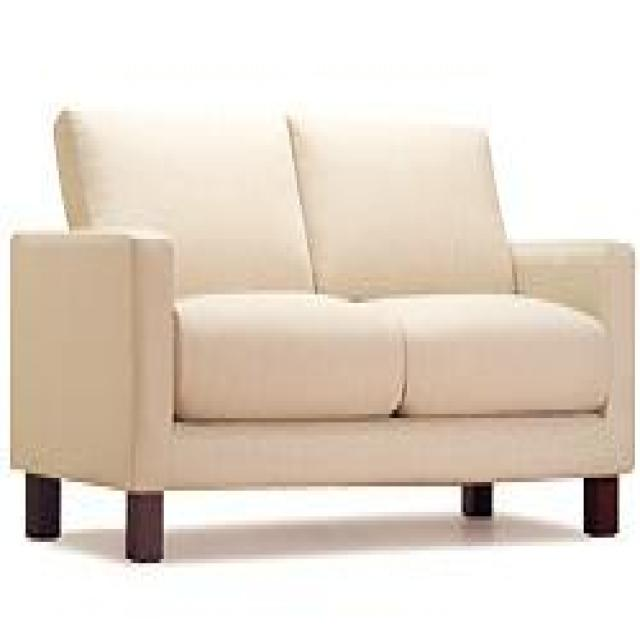sofa: (10, 103, 634, 566)
